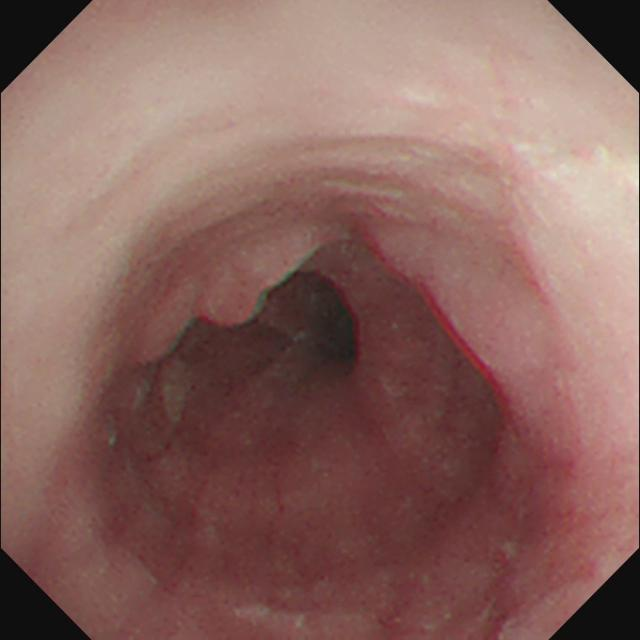A: (472, 545, 522, 640), (196, 289, 276, 339)
E: (302, 267, 363, 373)
J: (228, 603, 316, 638), (162, 362, 193, 424)
